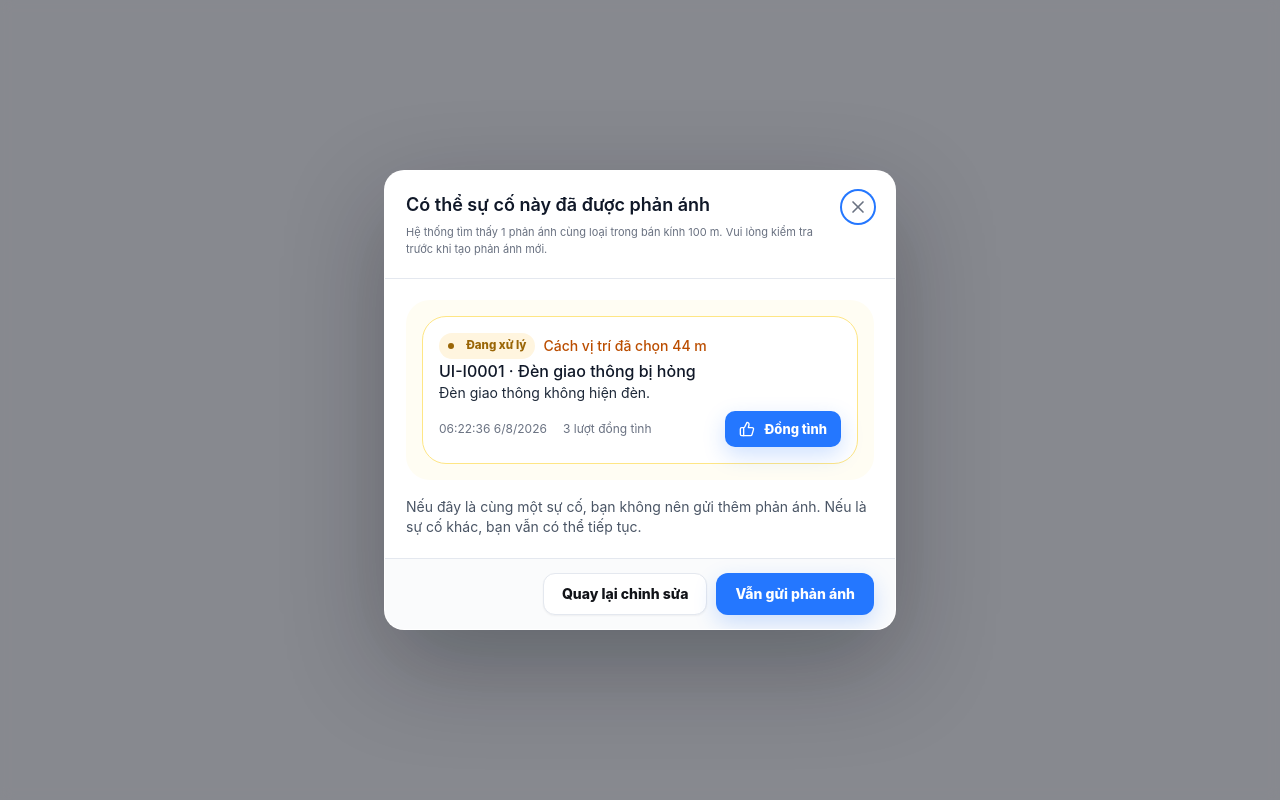
Scenario: DuplicateReportsDialog › upvotes a duplicate report and shows the count returned by the API
The width and height of the screenshot is (1280, 800).
Click the button "Đồng tình": click(783, 429) [725,411,841,447]
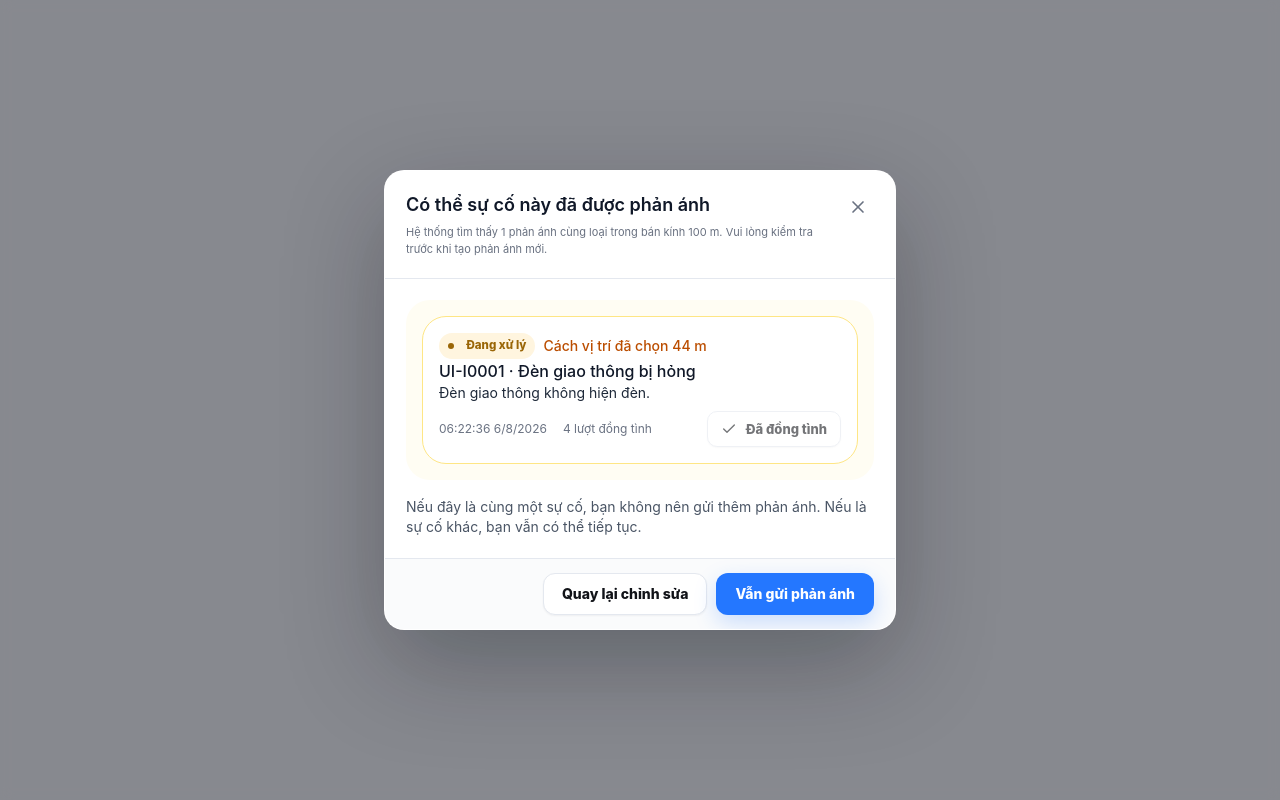
Expected: the text "4 lượt đồng tình" is shown, [563,421,652,437]
Expected: the button "Đã đồng tình" is disabled, [707,411,841,447]
